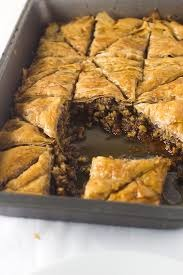baklava: (0, 23, 182, 196), (84, 155, 173, 203)
